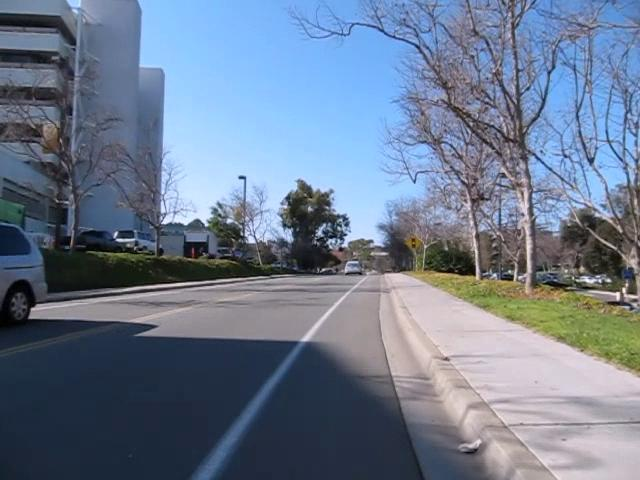signalAhead: (403, 233, 423, 253)
